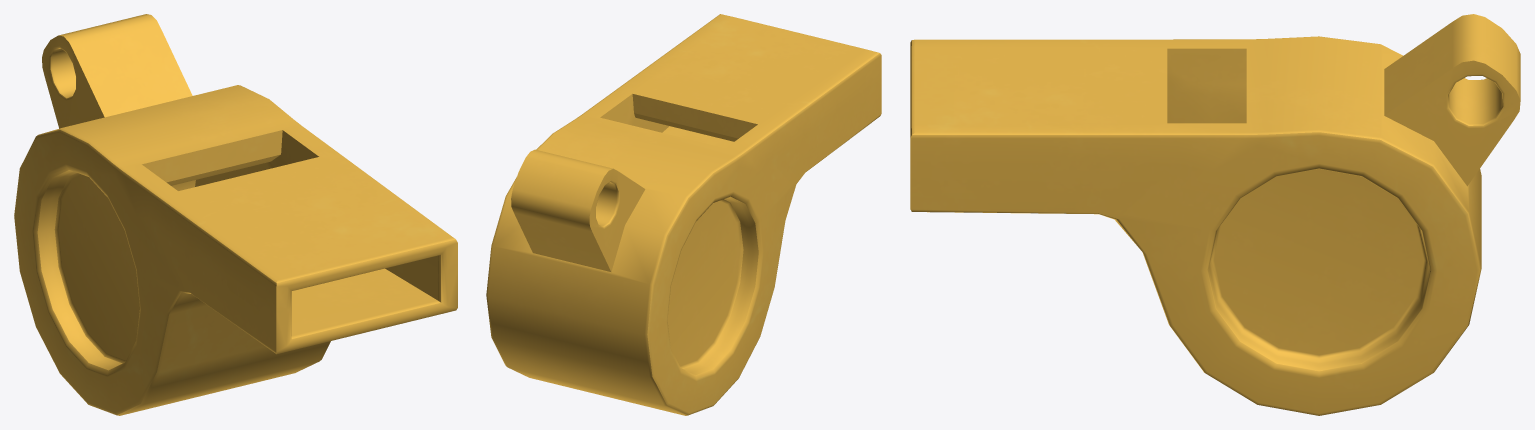
The model's file is whistle.fbx.
3 renders of one model, left to right at view 1: azimuth 30°, elevation 25°; view 2: azimuth 150°, elevation 25°; view 3: azimuth 270°, elevation 25°, orthographic. The views are drawn at different scales.
Visible parts, largest first — view 1: whistle_lo; view 2: whistle_lo; view 3: whistle_lo.
Boxes of the visible parts, x1,y1,x2,y2 form: whistle_lo: (14,14,457,415); whistle_lo: (486,14,881,415); whistle_lo: (910,14,1520,415).
Size of the model in its own units: 0.0271 by 0.043 by 0.0716.
